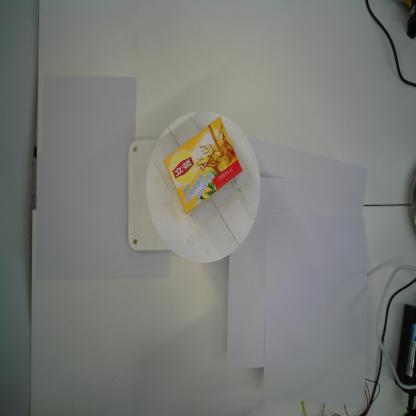Instant Drink: (163, 114, 243, 214)
